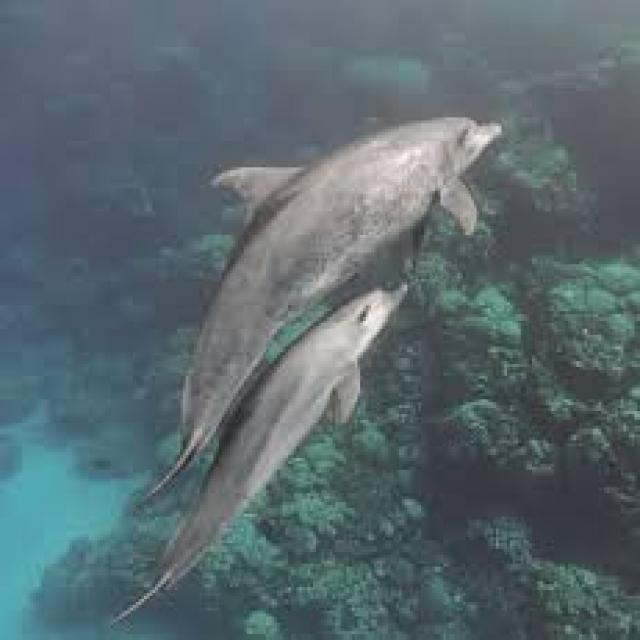dolphin: (67, 58, 540, 456), (94, 284, 427, 622)
